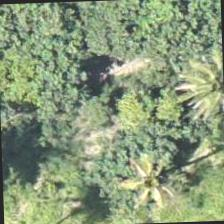Kelapa_Sawit: (168, 43, 223, 137)
